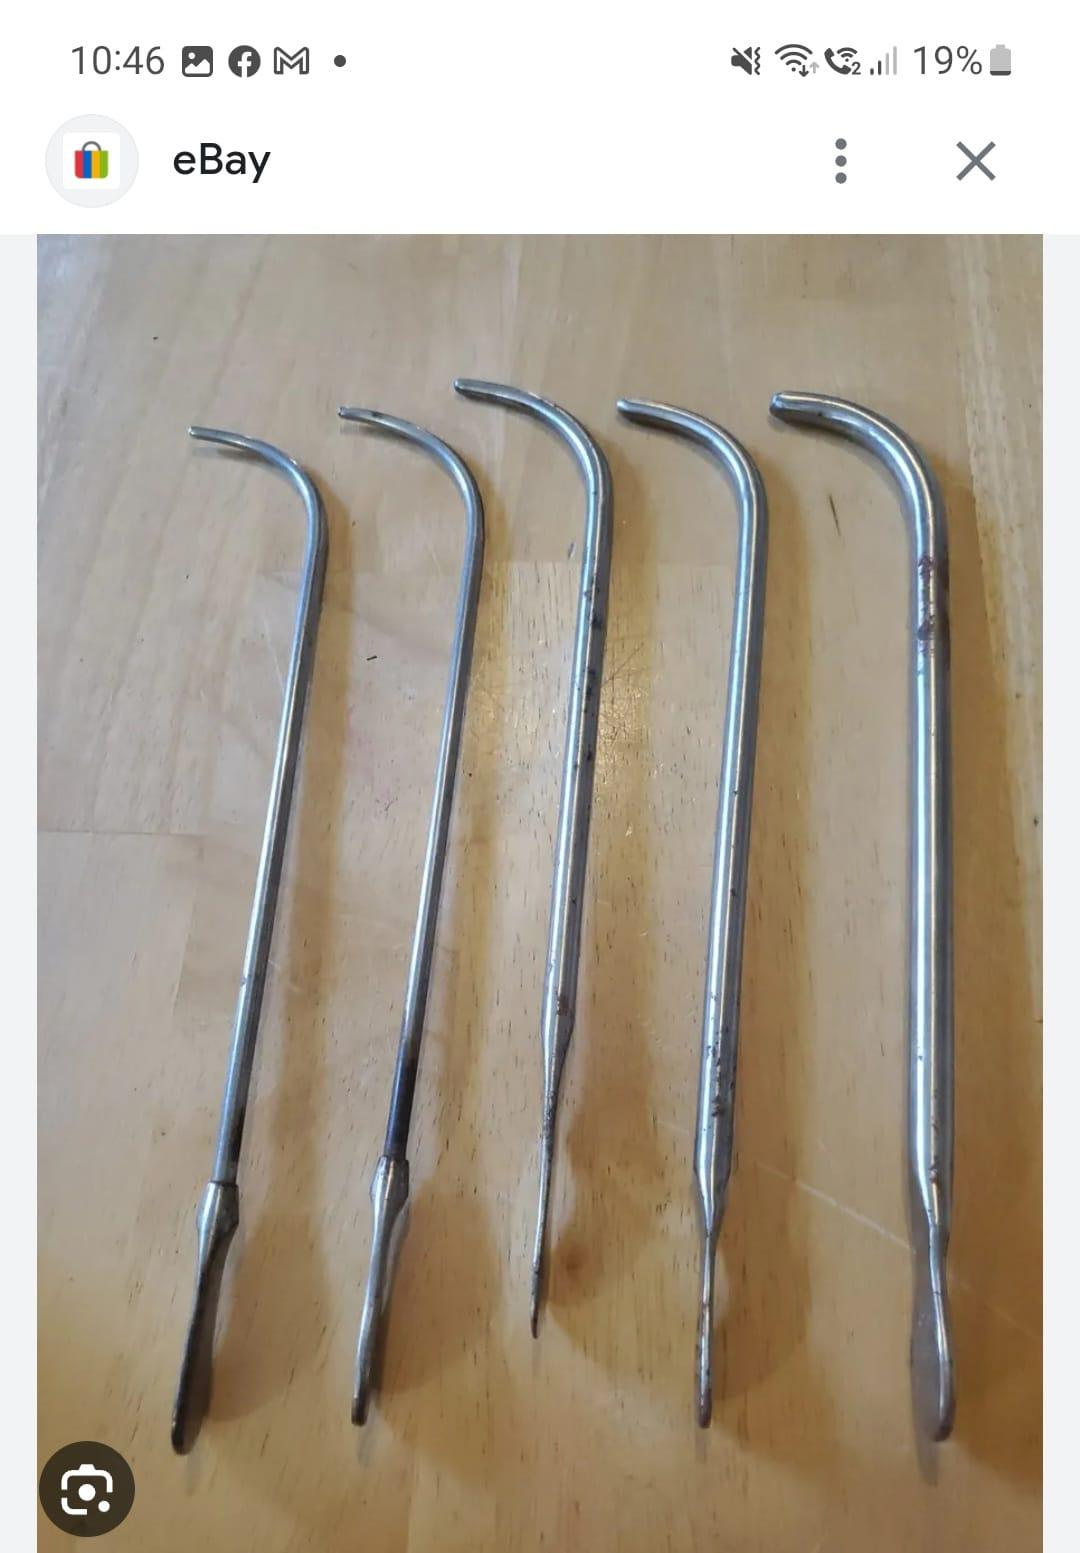Urethral Dilators: (760, 358, 1020, 1462), (568, 395, 812, 1417), (114, 395, 335, 1473), (313, 393, 497, 1433), (445, 367, 622, 1350)
